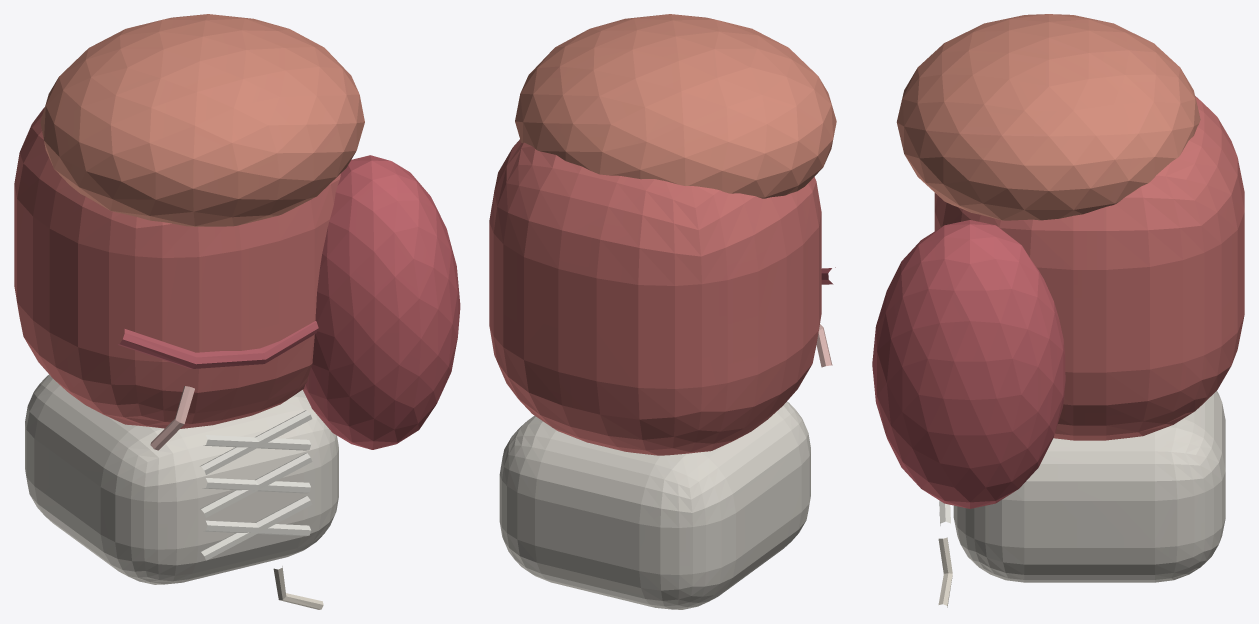
The model's file is bokshandschoen.glb.
3 renders of one model, left to right at view 1: azimuth 30°, elevation 25°; view 2: azimuth 150°, elevation 25°; view 3: azimuth 270°, elevation 25°, orthographic.
Parts seen in each view (by area): view 1: bokshandschoen; view 2: bokshandschoen; view 3: bokshandschoen.
Part boxes in pixels (x1=…): bokshandschoen: x1=14, y1=14, x2=460, y2=609; bokshandschoen: x1=489, y1=14, x2=836, y2=609; bokshandschoen: x1=872, y1=14, x2=1244, y2=607.
Bounding box in the file's own units: 0.145 × 0.22 × 0.137.
